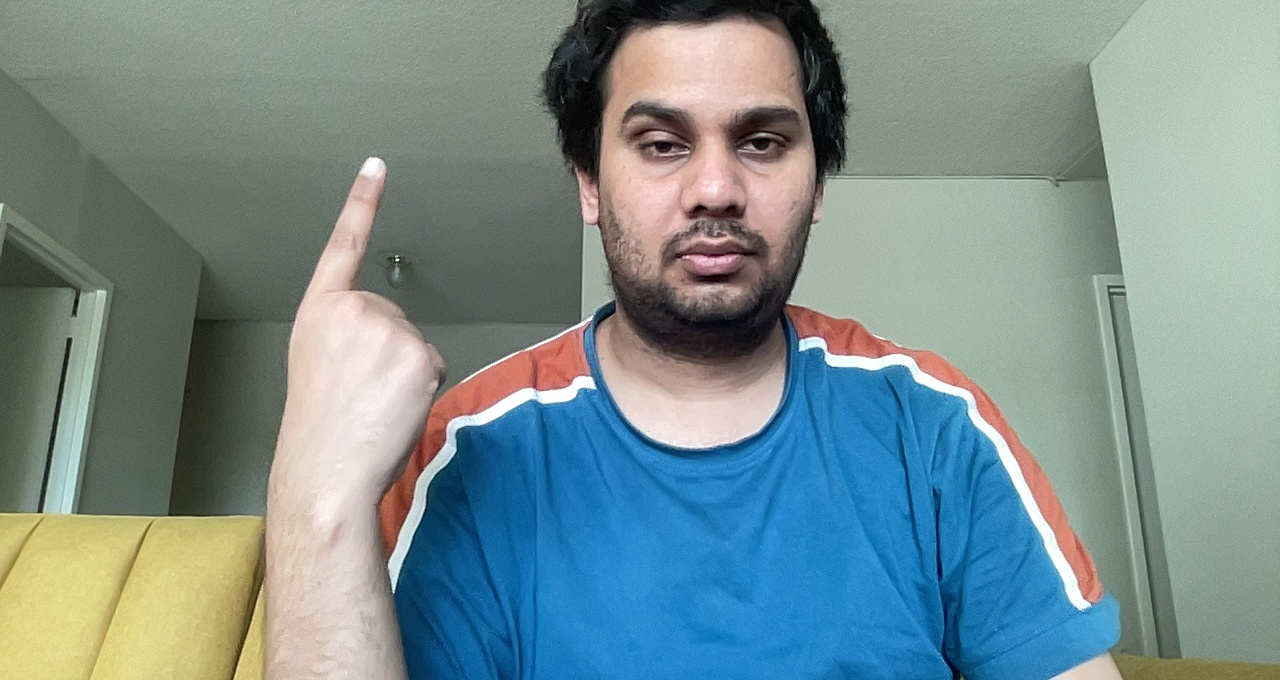fingerup: (268, 148, 459, 504)
